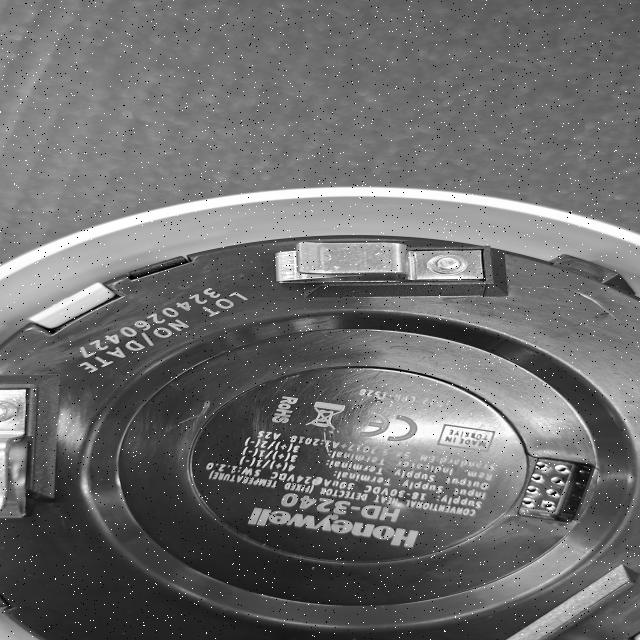yayli: (250, 238, 514, 291)
